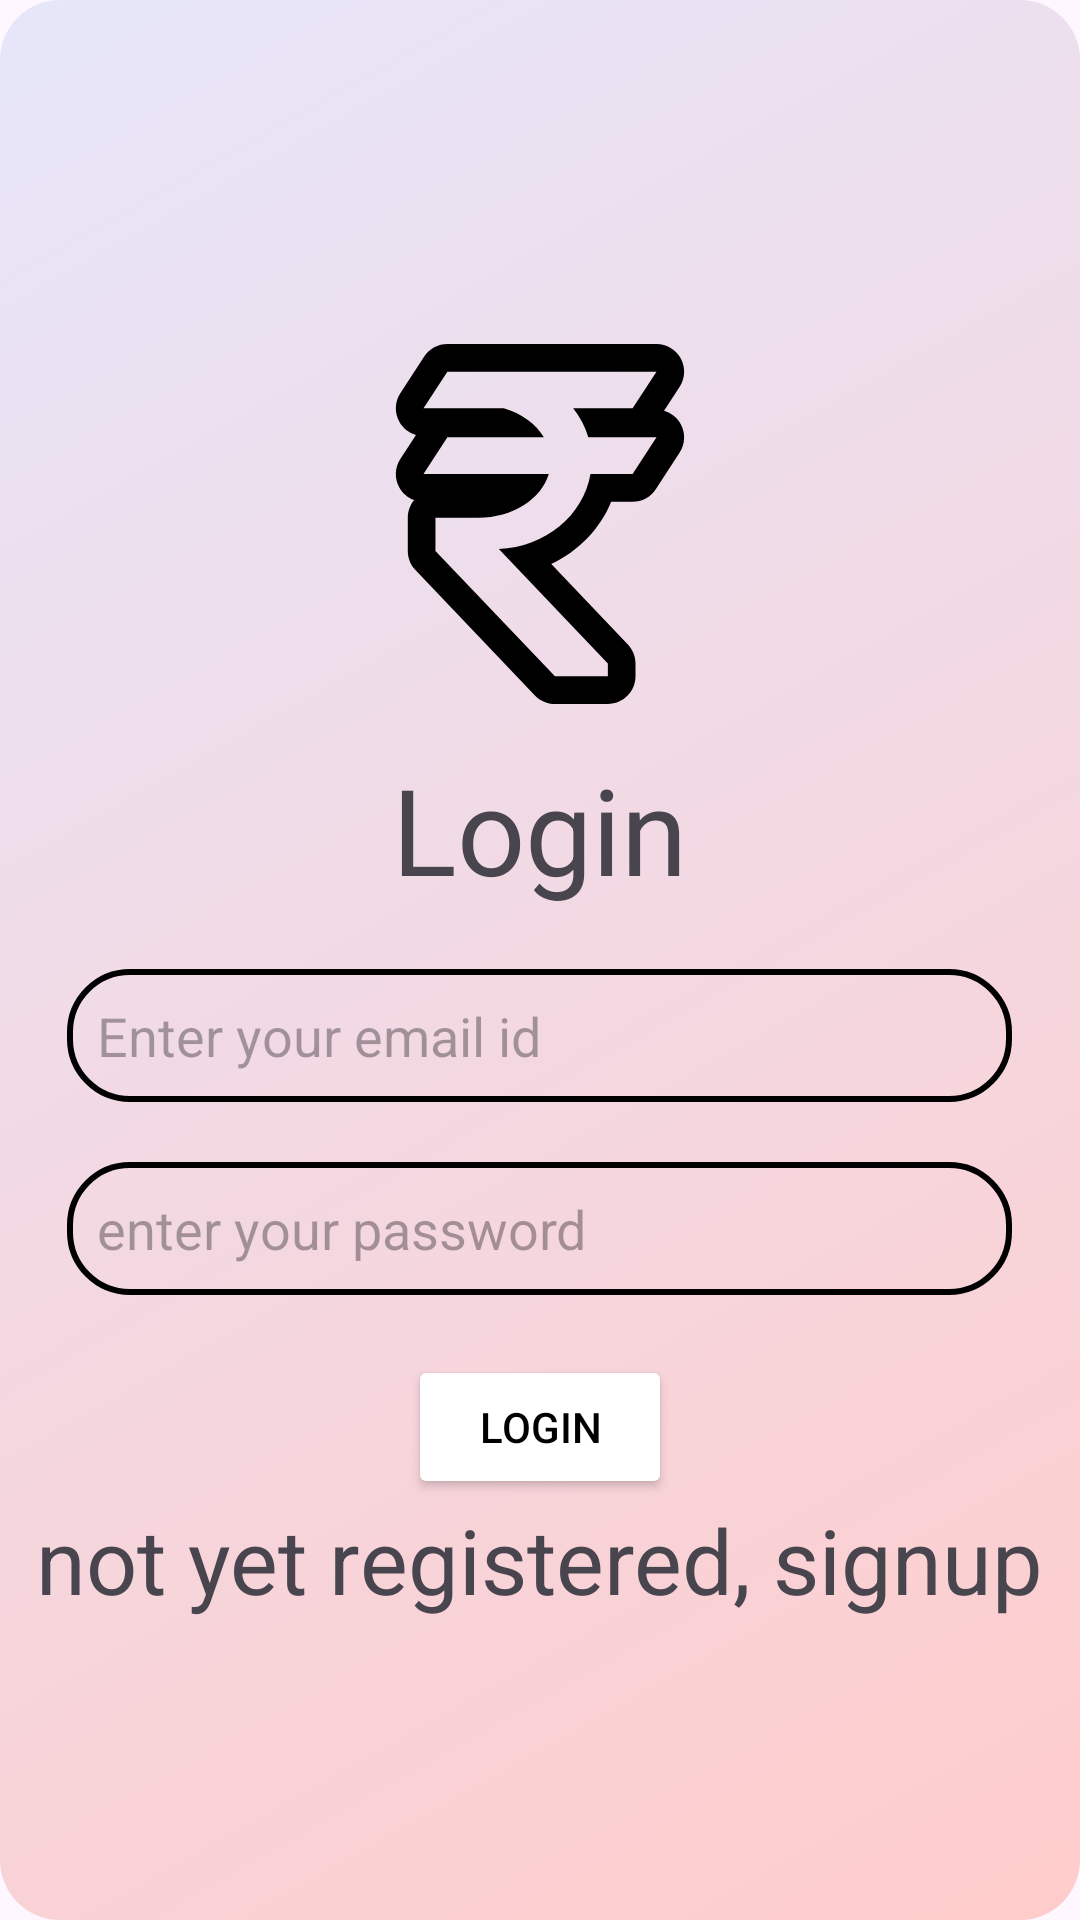

Locate icon controls on the screen. Image size 1080px×1920px, boxes as {"left": x1, "top": y1, "right": x2, "bottom": y2}.
rupeeicon: {"left": 395, "top": 344, "right": 684, "bottom": 704}
